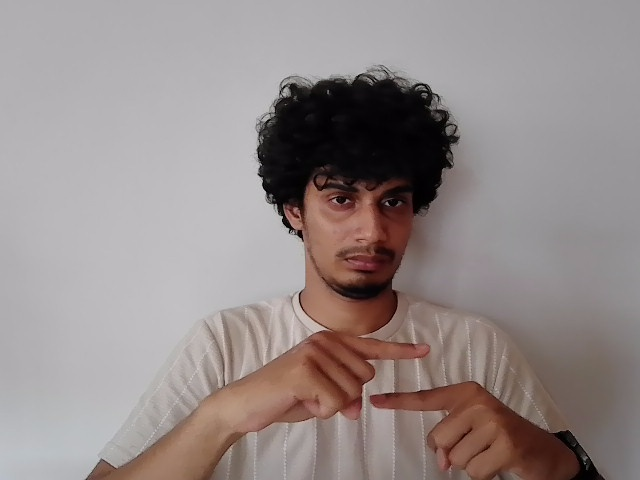about: (229, 329, 548, 479)
